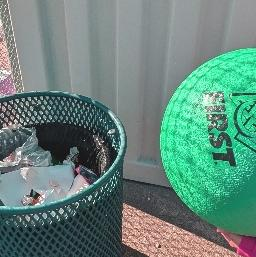algae: (160, 47, 256, 237)
